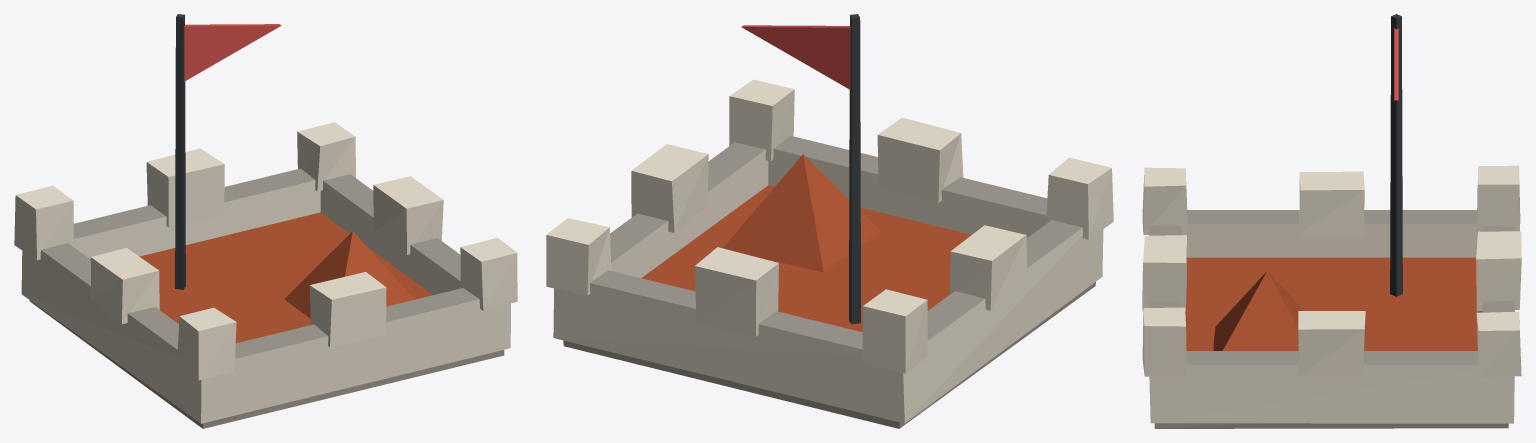
The model's file is tower_top_a.glb.
The picture shows the model from 3 angles, left to right: view 1: azimuth 30°, elevation 25°; view 2: azimuth 150°, elevation 25°; view 3: azimuth 270°, elevation 25°; orthographic projection. The views are drawn at different scales.
Visible parts, largest first — view 1: tower_top_a; view 2: tower_top_a; view 3: tower_top_a.
Boxes of the visible parts, <box> form: tower_top_a: <box>14,14,517,428</box>; tower_top_a: <box>546,14,1113,428</box>; tower_top_a: <box>1142,14,1521,428</box>.
Size of the model in its own units: 0.7055 by 0.636 by 0.7058.
